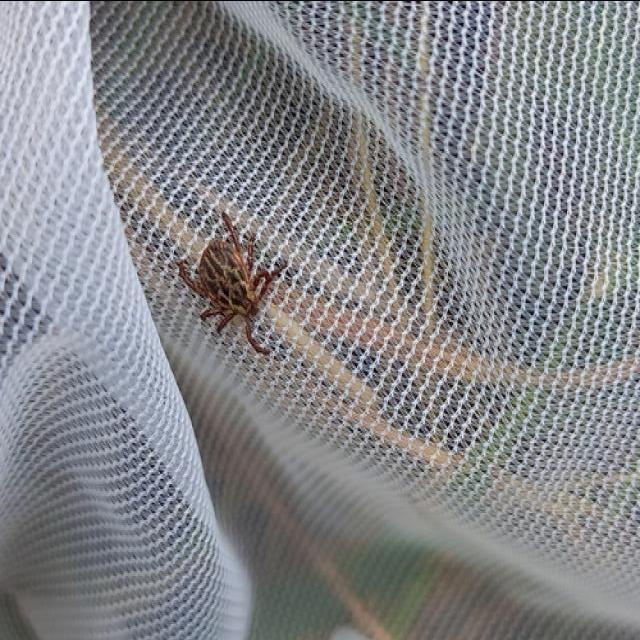Dermacentor Reticulatus-M: (178, 205, 274, 353)
